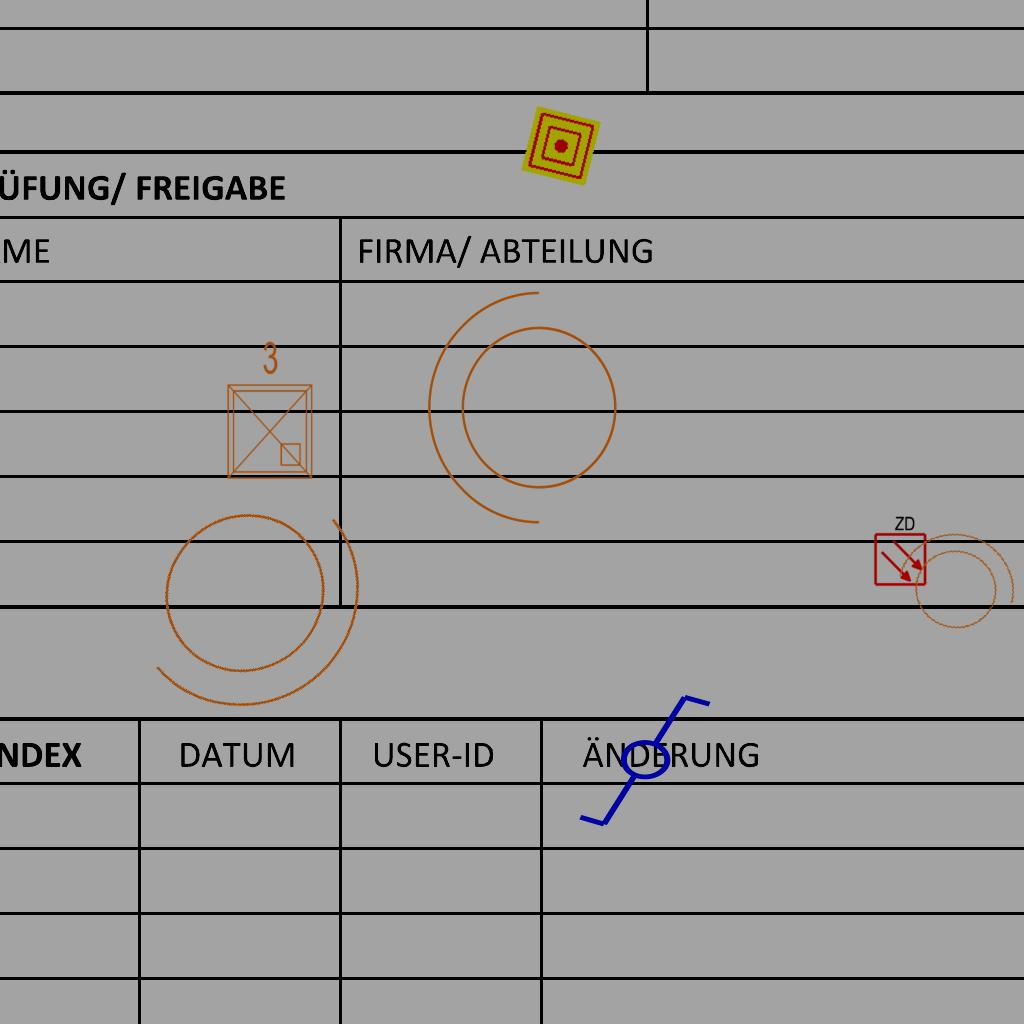Einbaudownlights_LED_Konferenzraeume: (216, 336, 320, 486)
NAM-Nichtautomatischer_Melder: (520, 105, 602, 187)
Scheinwerfer_fuer_Alarmbeleuchtung: (82, 425, 430, 768), (417, 282, 642, 546), (876, 513, 1024, 655)
Wechselschalter: (575, 690, 732, 834)
ZD_Melder_in_Zwischendecke_mit_Revisionsoeffnung_mind_40_x_40_cm: (871, 513, 928, 587)
